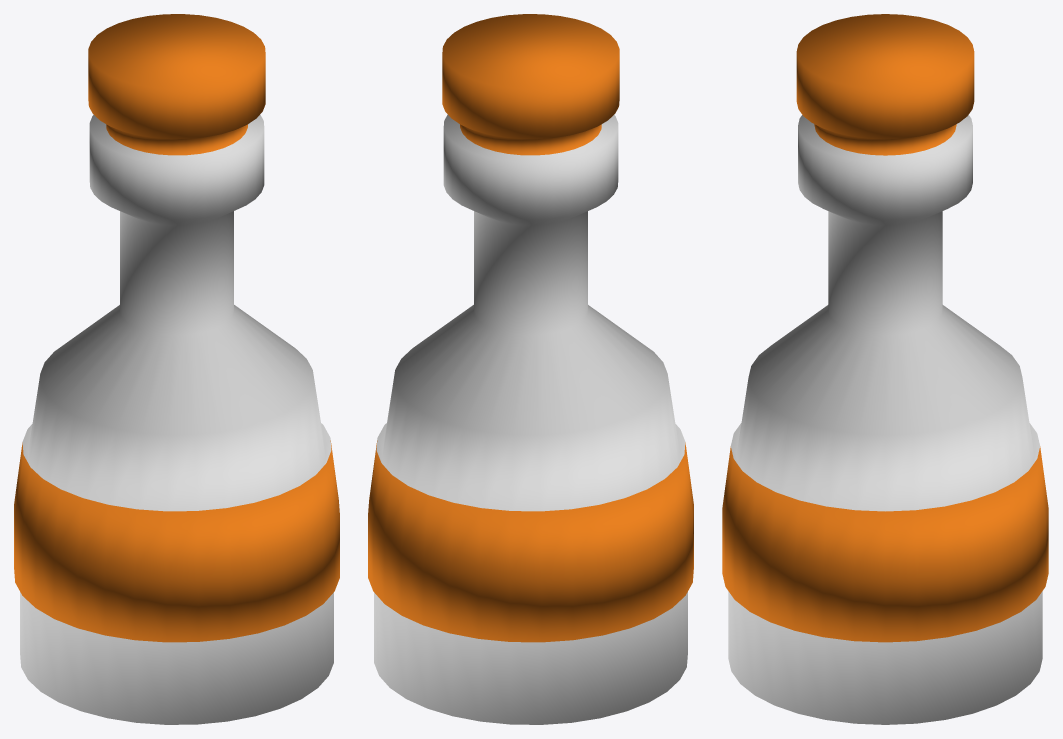
File: potion3.fbx
3 renders of one model, left to right at view 1: azimuth 30°, elevation 25°; view 2: azimuth 150°, elevation 25°; view 3: azimuth 270°, elevation 25°, orthographic.
Parts seen in each view (by area): view 1: Cube; view 2: Cube; view 3: Cube.
Part boxes in pixels (bbox=[...]): Cube: bbox=[14, 14, 339, 724]; Cube: bbox=[368, 14, 693, 724]; Cube: bbox=[722, 14, 1048, 724].
Size of the model in its own units: 208 by 426 by 208.
